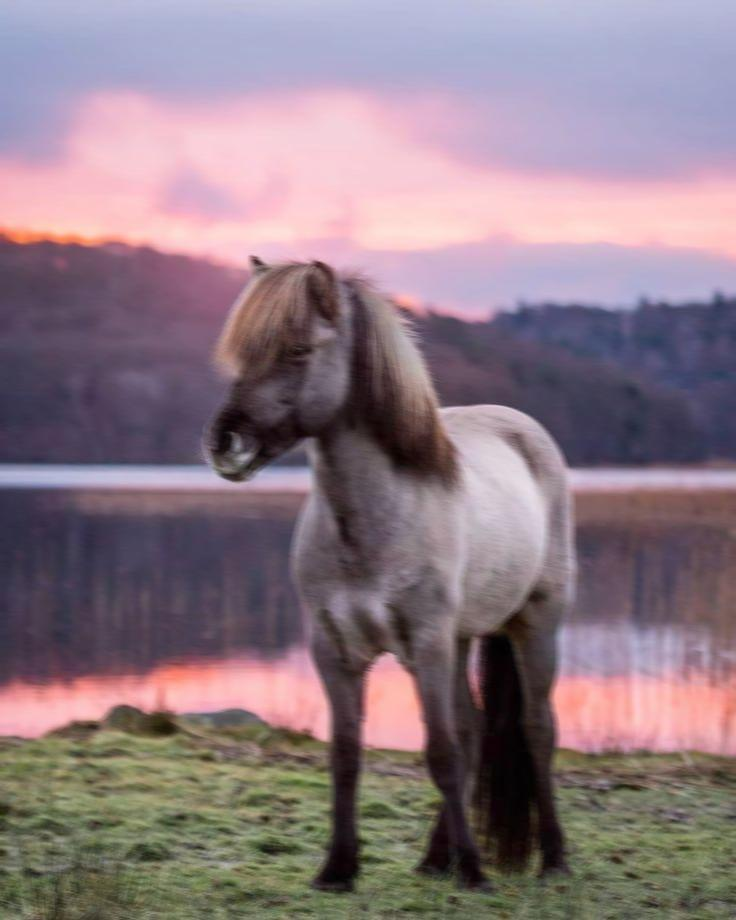horse: (201, 253, 577, 895)
